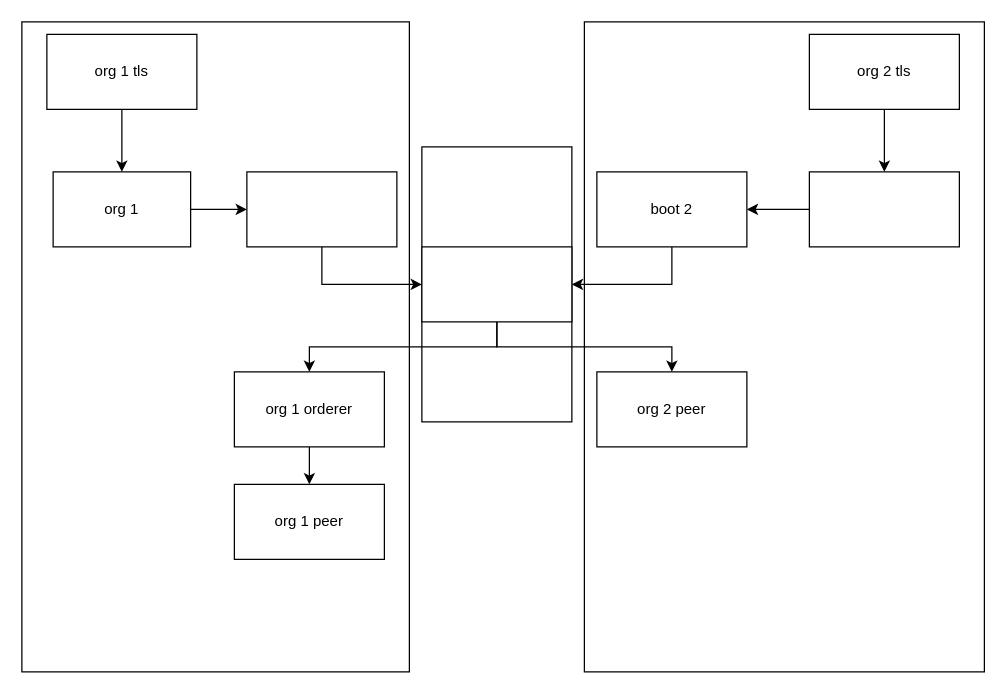
Some shapes in this 1006 by 694 pixel diagram are drawn without their labels. Here are the shapes that lost their labels. From the top down, the centre of each, then its label:
At pixel 321 209: "boot 1".
At pixel 883 209: "org 2".
At pixel 496 284: "genesis".
